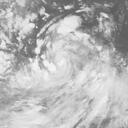cyclone: (37, 32, 74, 86)
